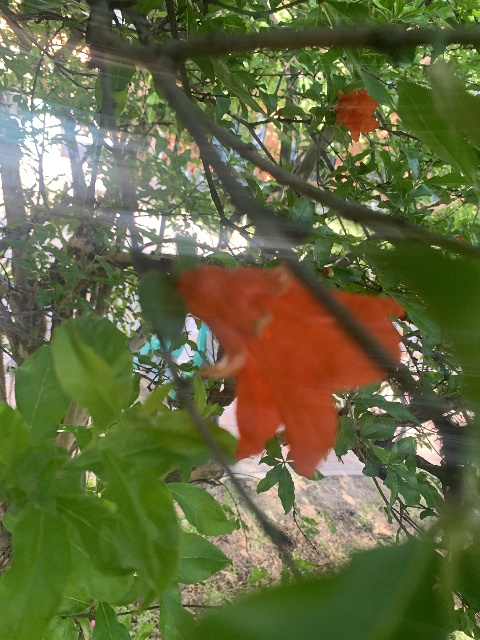flower: (175, 261, 409, 476), (333, 87, 380, 142)
